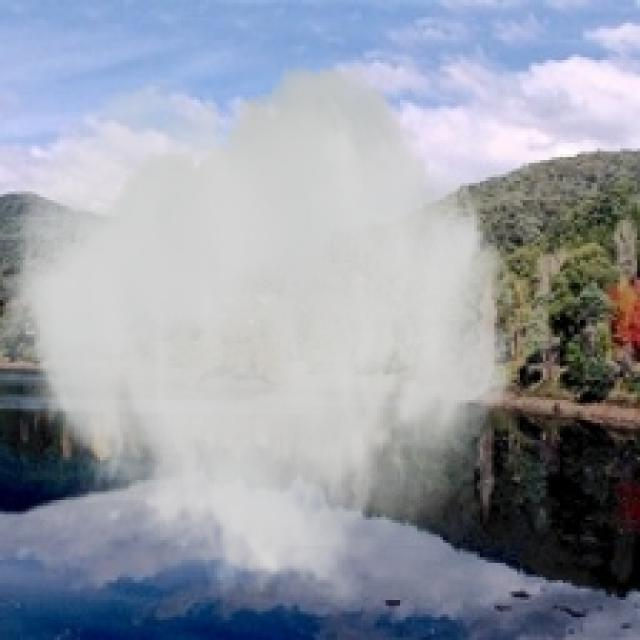smoke: (0, 66, 520, 614)
